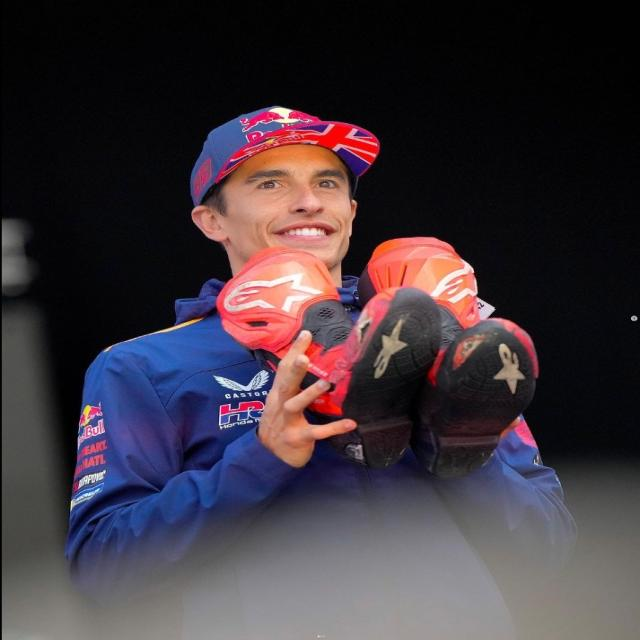illegal_helmet: (182, 100, 386, 277)
